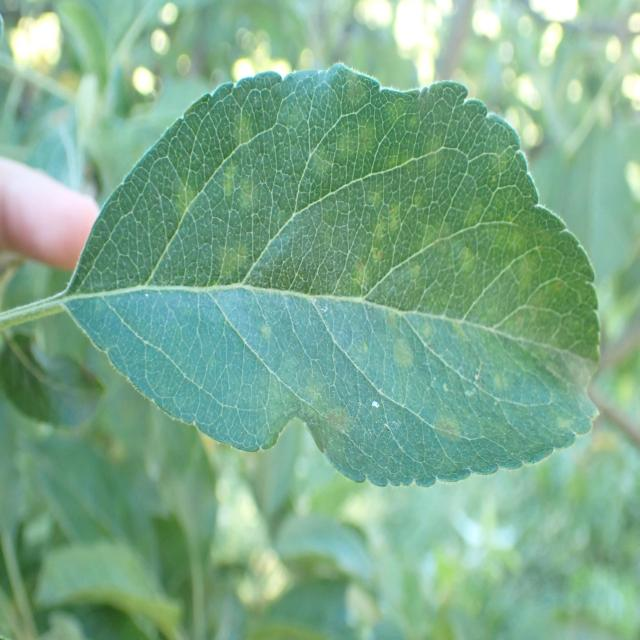scab: (143, 108, 593, 450)
